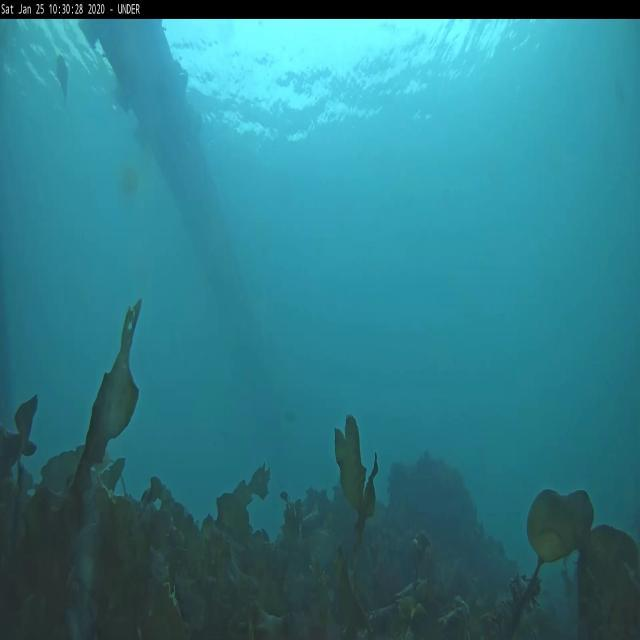fish: (54, 52, 72, 102)
